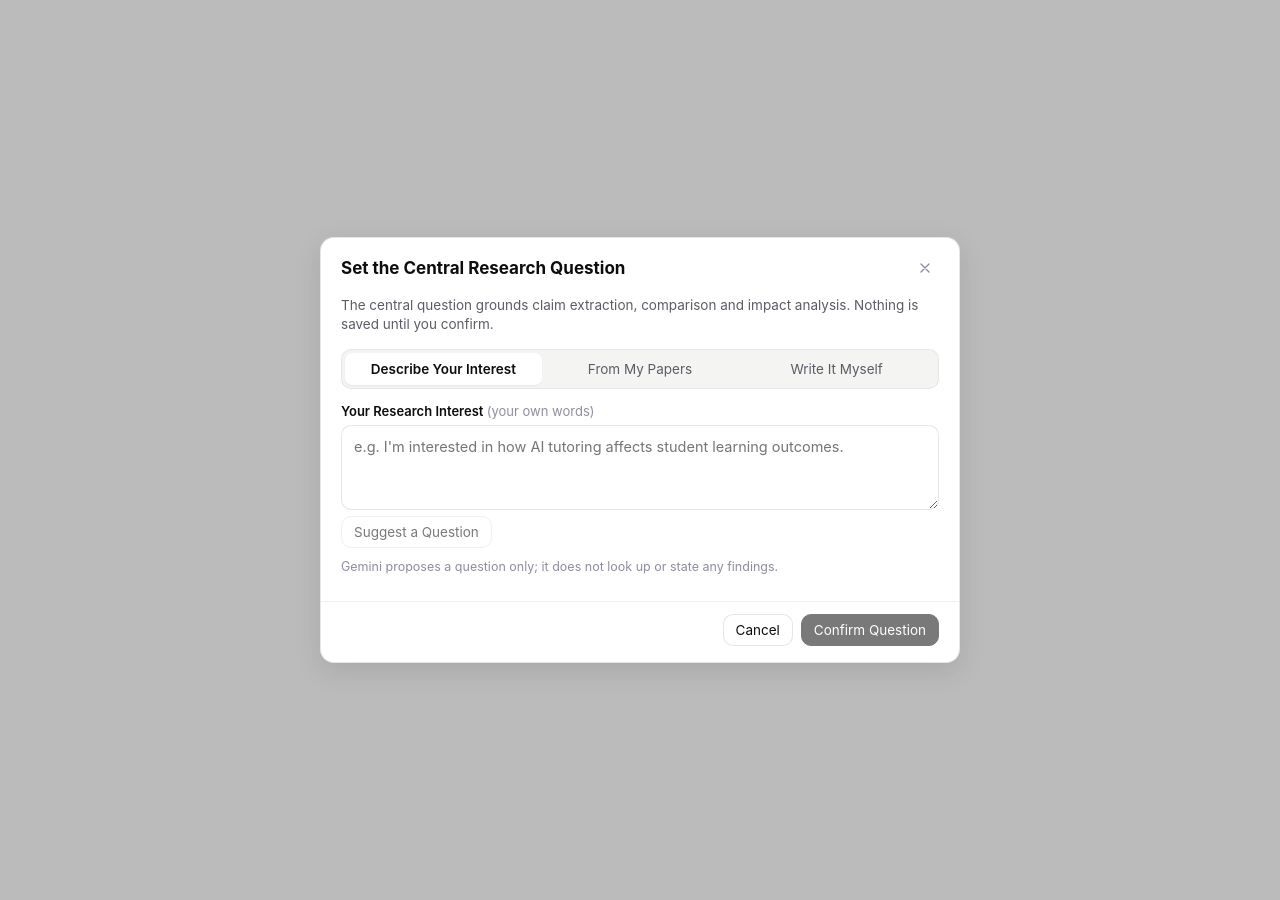
Test: QuestionDialog › a Gemini failure is shown and offers the manual route; nothing is saved
The width and height of the screenshot is (1280, 900).
Replace the text in the text box labelled "Your Research Interest (your own words)" with "I'm interested in how AI tutoring affects student learning outcomes." at (640, 467), box [341,425,939,510]
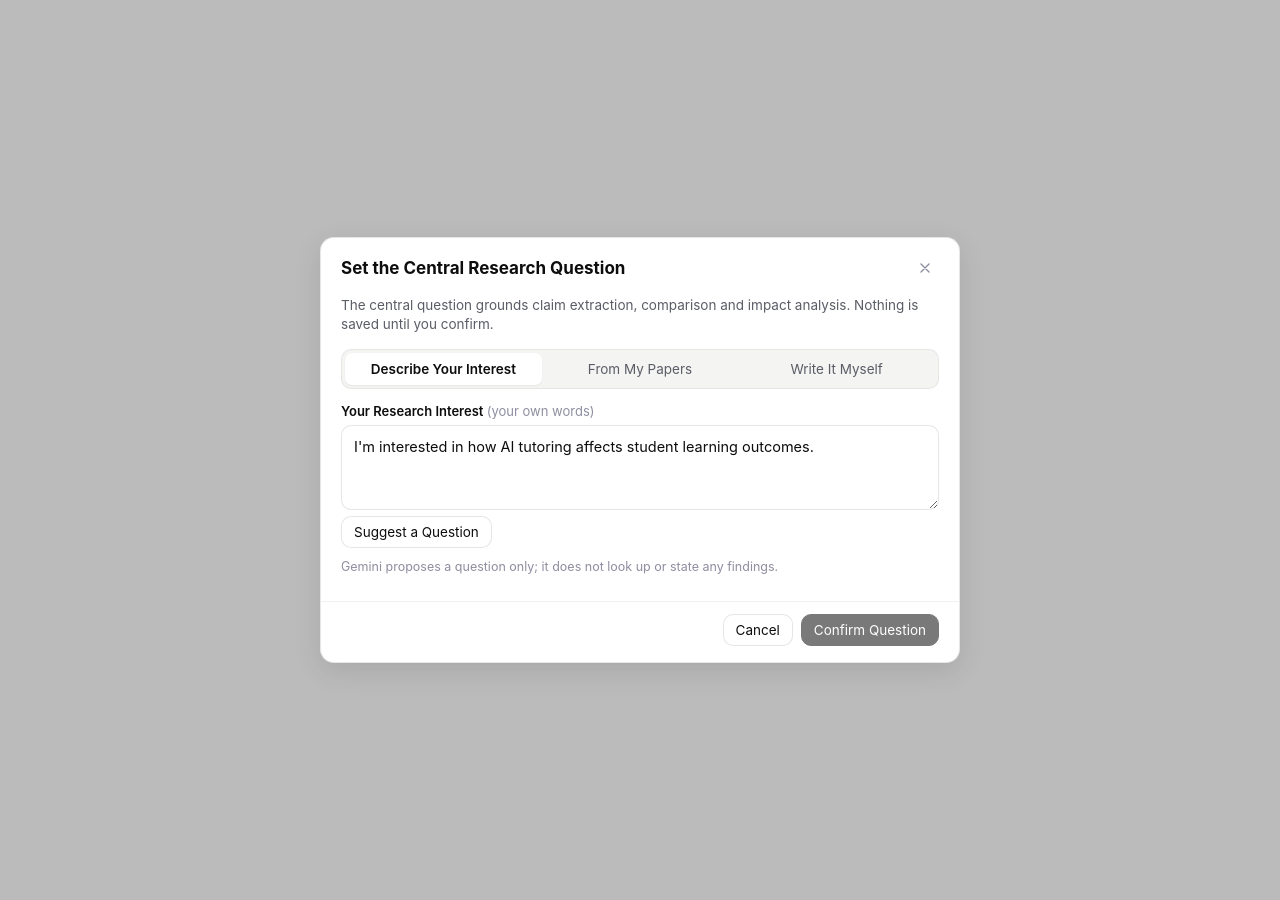
Click the button "Suggest a Question" at (416, 532), box [341,516,492,548]
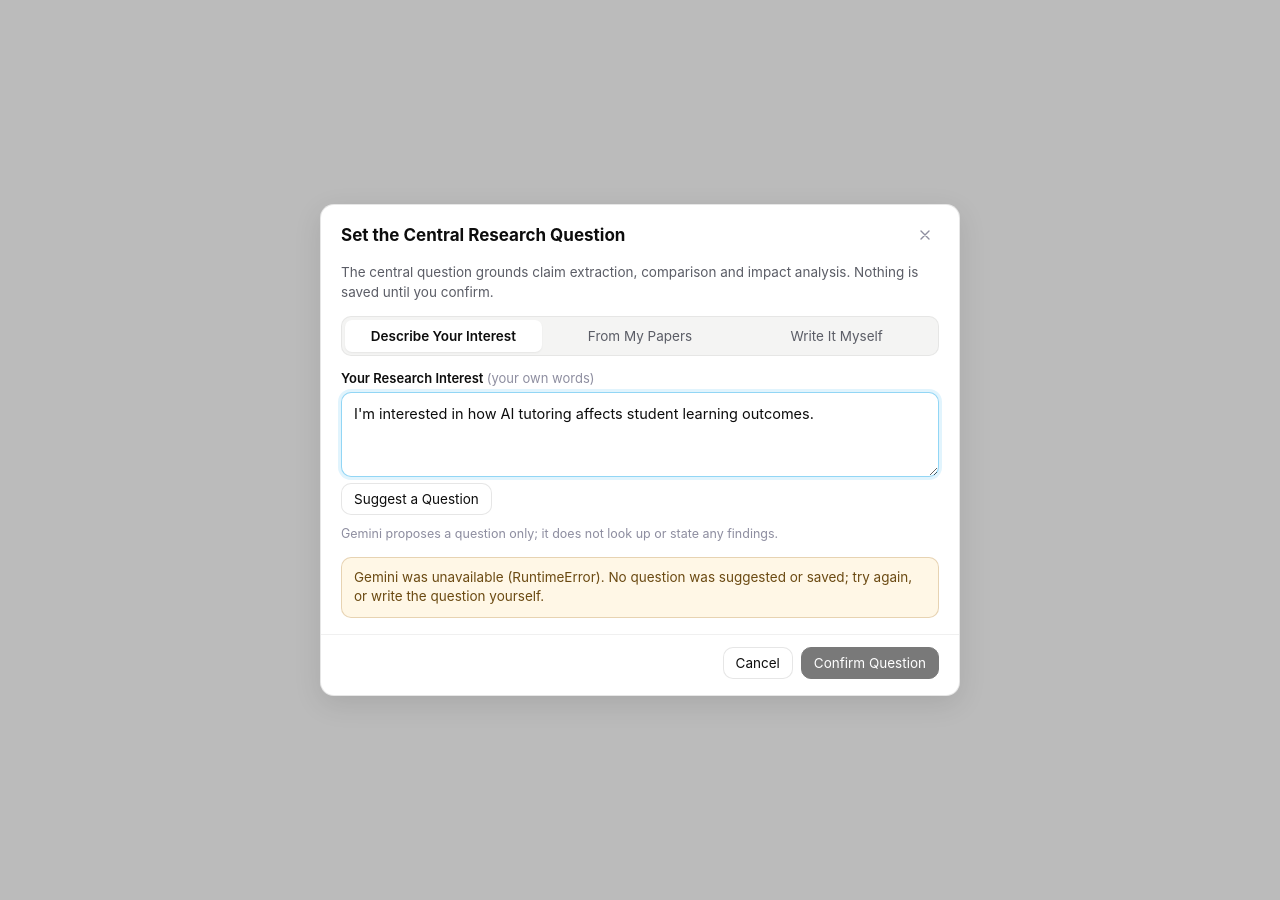
Expected: the radio button labelled "Write It Myself" is shown, [738,320,935,352]
Result: the message shows "write the question yourself" at [354,569,912,604]
